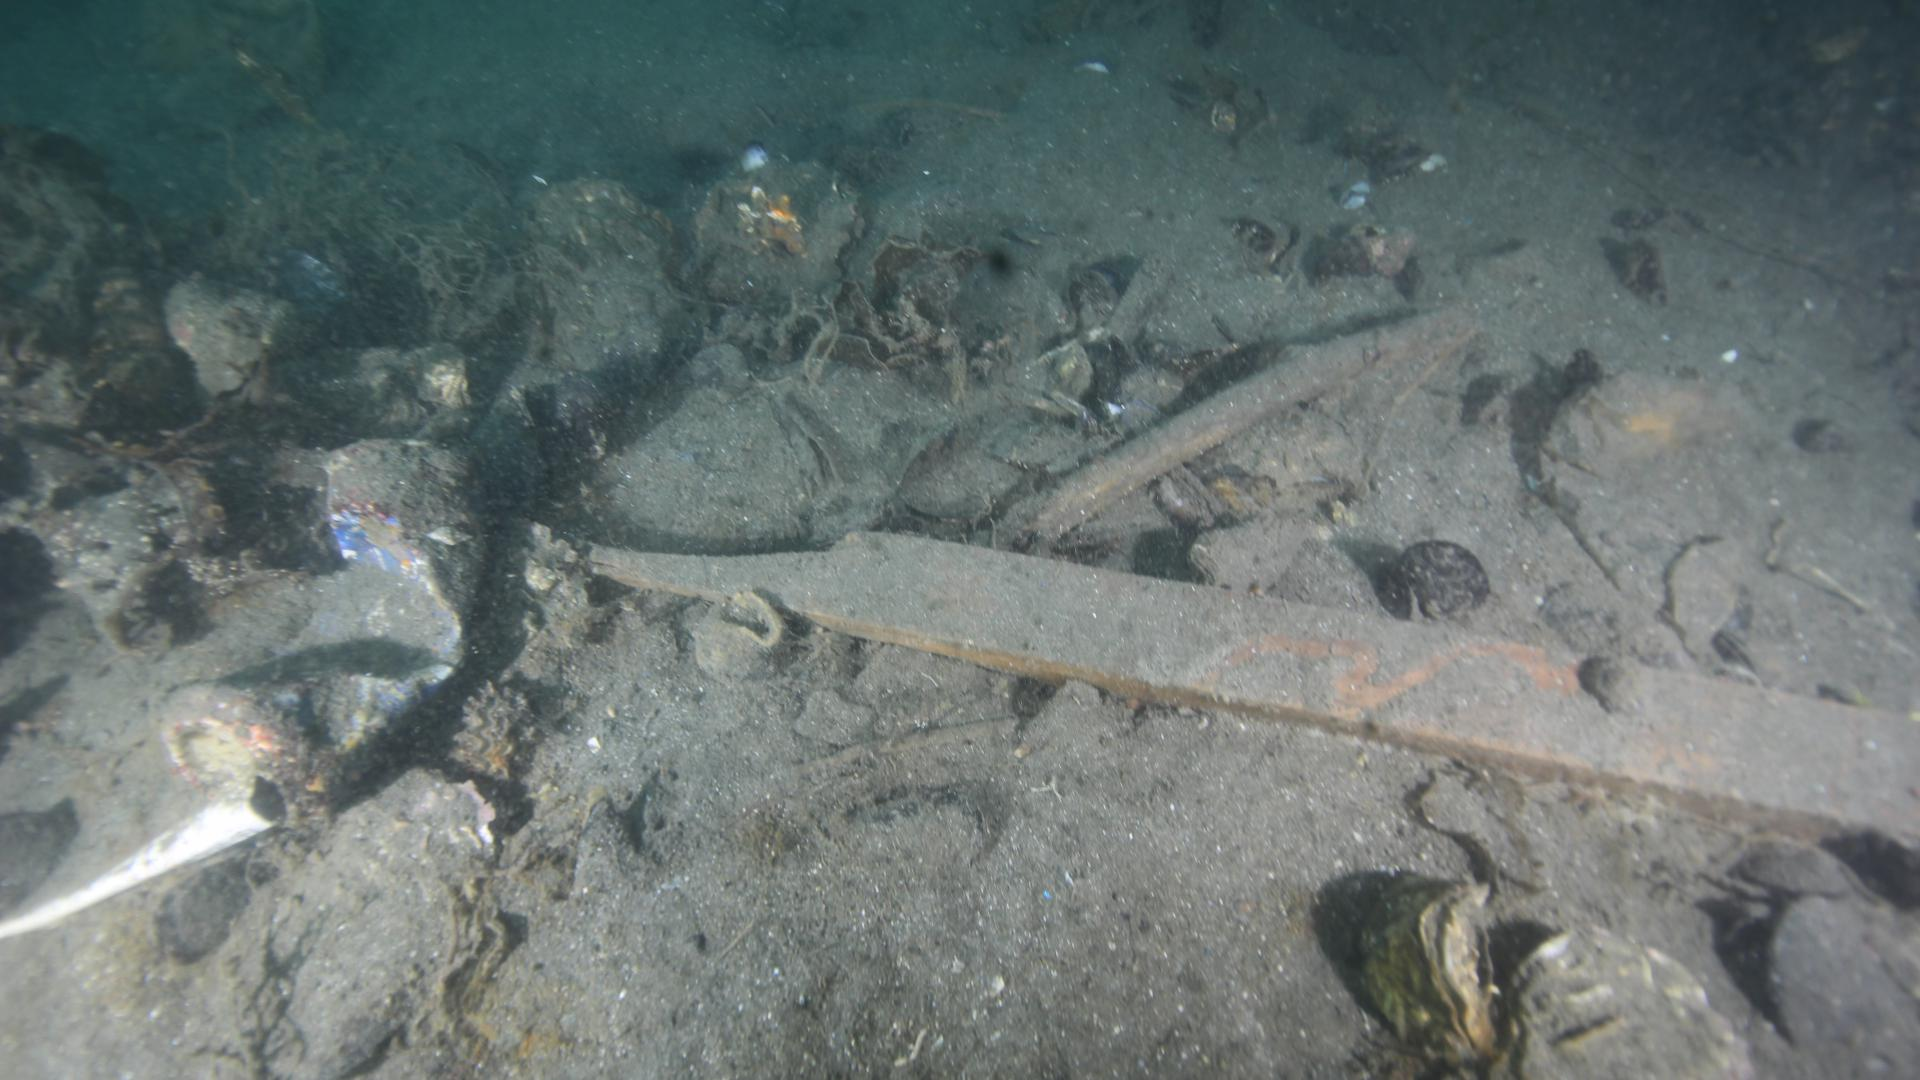wood: (574, 521, 1920, 852)
